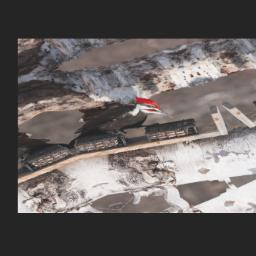Woodpecker: (60, 90, 179, 148)
